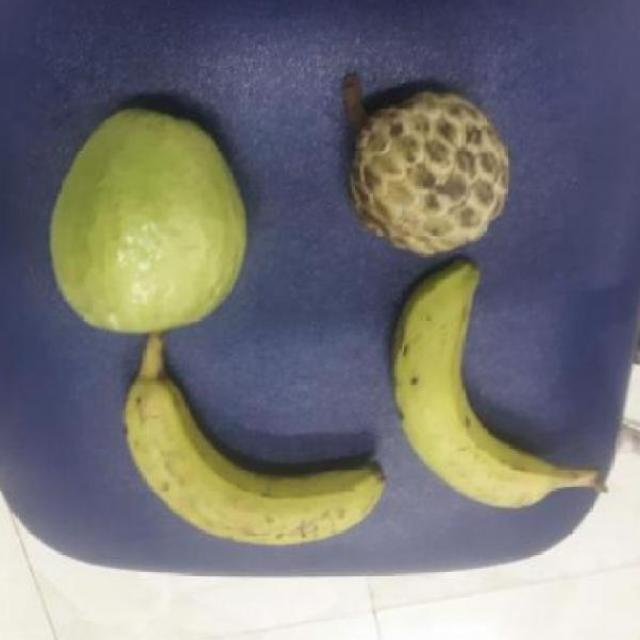banana: (115, 373, 391, 555), (383, 254, 553, 512)
guava: (46, 101, 251, 336)
sugar apple: (341, 89, 519, 258)
